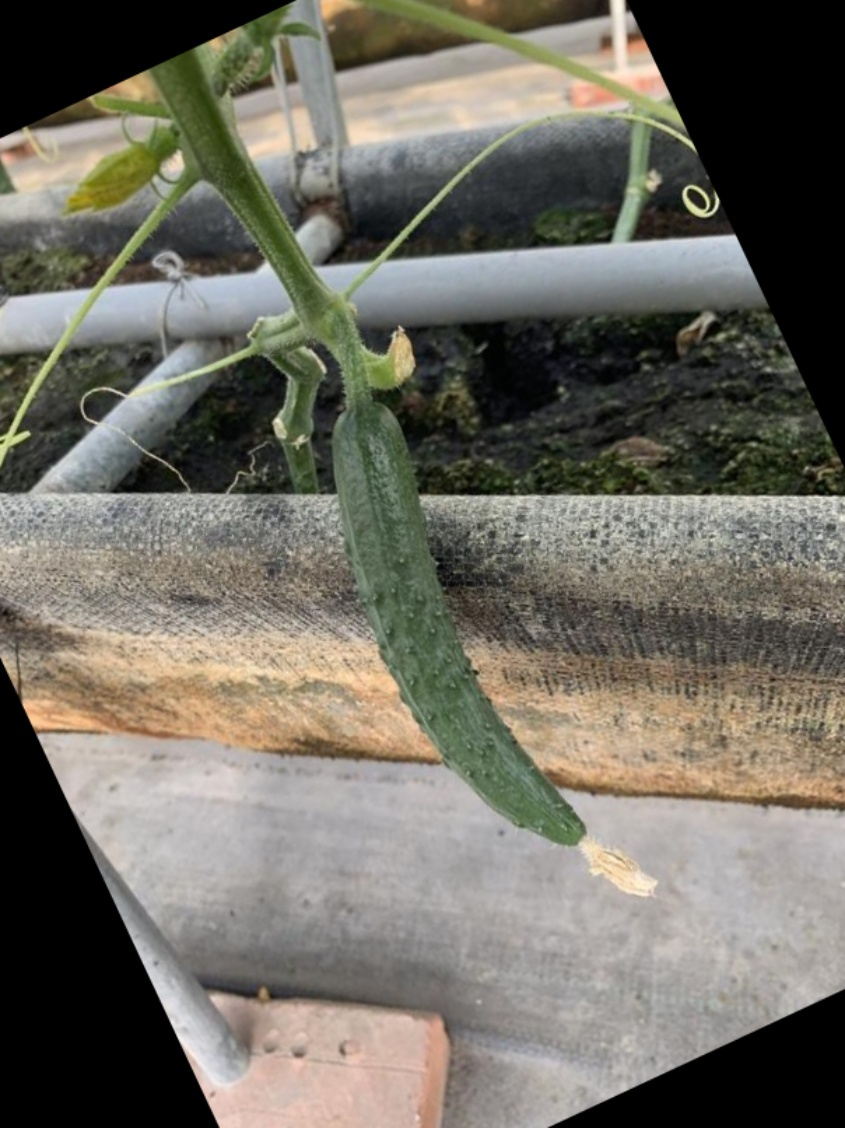mature: (316, 394, 595, 859)
